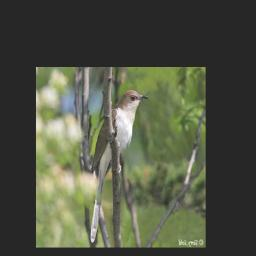Cuckoo: (90, 88, 151, 244)
